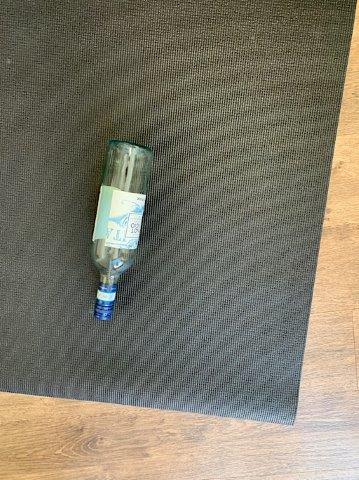botolkaca: (91, 140, 152, 321)
